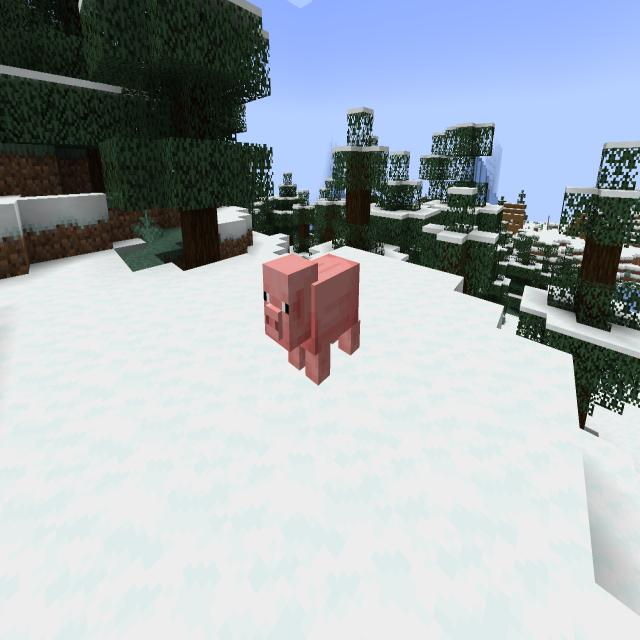pig: (256, 242, 366, 394)
